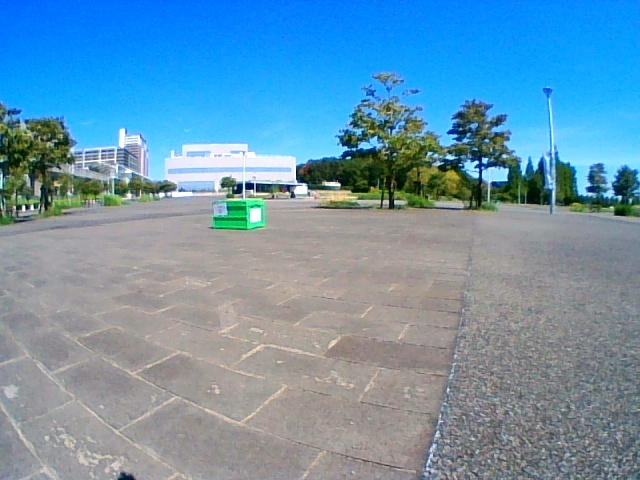green_box: (213, 199, 264, 229)
tag: (213, 203, 226, 215)
